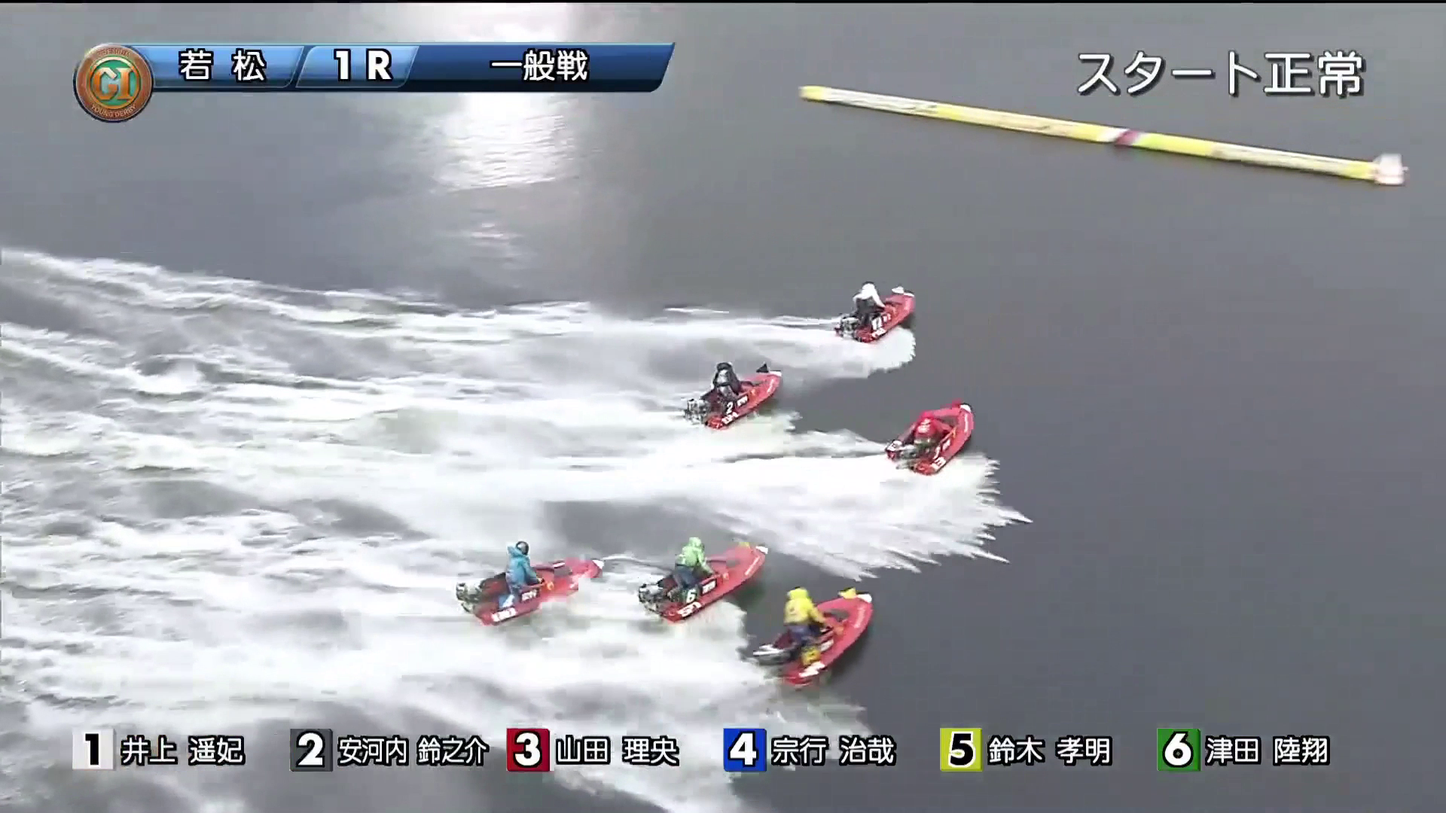１号艇: (833, 281, 970, 335)
２号艇: (669, 354, 798, 414)
３号艇: (886, 413, 1026, 459)
４号艇: (632, 538, 764, 604)
５号艇: (441, 549, 565, 604)
６号艇: (768, 594, 867, 650)
